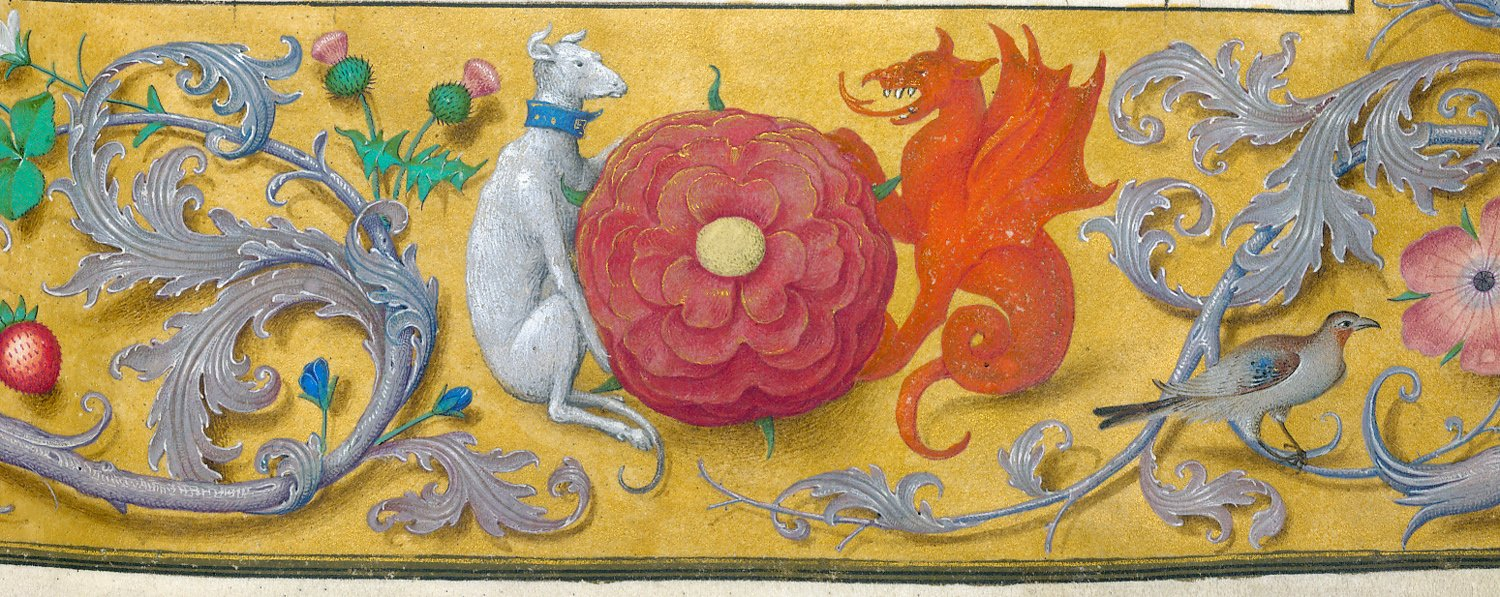bird: (1106, 312, 1381, 479)
dog: (469, 37, 669, 453)
dragon: (829, 16, 1125, 456)
